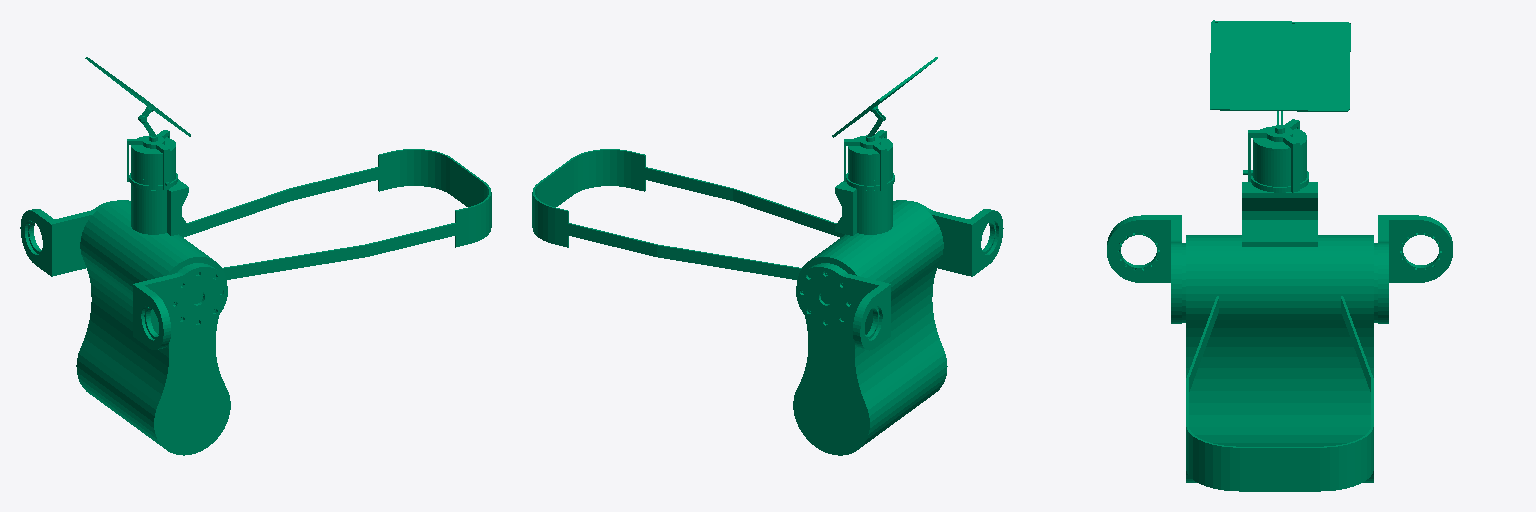
The robot description file, URDF, robot "ia_robot":
<?xml version="1.0"?>
<robot name="ia_robot">

  <!-- A “world” frame at the ground plane -->
  <link name="world"/>

  <!-- Fixed joint: place base_link on the ground -->
  <joint name="world_to_base" type="fixed">
    <origin xyz="0 0 0" rpy="0 0 0"/>
    <parent link="world"/>
    <child link="base_link"/>
  </joint>

  <!-- Base link -->
  <link name="base_link">
    <!-- Base mesh at its natural origin (sits on ground) -->
    <visual>
      <origin xyz="0 0 0" rpy="0 0 0"/>
      <geometry>
        <mesh filename="package://ia_robot/meshes/base.stl"/>
      </geometry>
      <material name="Gray"/>
    </visual>
    <collision>
      <origin xyz="0 0 0" rpy="0 0 0"/>
      <geometry>
        <mesh filename="package://ia_robot/meshes/base.stl"/>
      </geometry>
    </collision>
    <inertial>
      <mass value="1.0"/>
      <origin xyz="0 0 0" rpy="0 0 0"/>
      <inertia
        ixx="0.01" ixy="0.0" ixz="0.0"
        iyy="0.01" iyz="0.0"
        izz="0.01"/>
    </inertial>

    <!-- DEBUG: hinge marker at 0.8 m above ground -->
    <visual>
      <origin xyz="0 0 0.8" rpy="1.5708 0 0"/>
      <geometry>
        <cylinder length="0.1" radius="0.01"/>
      </geometry>
      <material name="JointMarker"/>
    </visual>
  </link>

  <!-- Chest link -->
  <link name="chest_link">
    <!-- 
      Offset the chest mesh down by 0.8 m so that,
      when the joint lifts the chest_link frame to z=0.8,
      the mesh appears in its original position.
    -->
    <visual>
      <origin xyz="0 0 -0.8" rpy="0 0 0"/>
      <geometry>
        <mesh filename="package://ia_robot/meshes/chest.stl"/>
      </geometry>
      <material name="Blue"/>
    </visual>
    <collision>
      <origin xyz="0 0 -0.8" rpy="0 0 0"/>
      <geometry>
        <mesh filename="package://ia_robot/meshes/chest.stl"/>
      </geometry>
    </collision>
    <inertial>
      <mass value="0.5"/>
      <origin xyz="0 0 -0.8" rpy="0 0 0"/>
      <inertia
        ixx="0.005" ixy="0.0" ixz="0.0"
        iyy="0.005" iyz="0.0"
        izz="0.005"/>
    </inertial>
  </link>

  <!-- Revolute joint at 0.8 m above ground -->
  <joint name="base_to_chest_joint" type="revolute">
    <origin xyz="0 0 0.8" rpy="0 0 0"/>
    <parent link="base_link"/>
    <child link="chest_link"/>
    <axis xyz="0 1 0"/>
    <limit effort="5.0" velocity="1.0" lower="-1.57" upper="1.57"/>
  </joint>

  <!-- Material for the debug cylinder -->
  <material name="JointMarker">
    <color rgba="1 0 0 1"/>
  </material>
</robot>

--- Render facts (derived) ---
3 views of the same robot in one strip: view 1: azimuth 30°, elevation 25°; view 2: azimuth 150°, elevation 25°; view 3: azimuth 270°, elevation 25° (orthographic).
Robot: ia_robot — 3 links, 2 joints (1 revolute, 1 fixed); root link world; default pose: all joints at 0.
Visible links, largest first — view 1: chest_link; view 2: chest_link; view 3: chest_link.
Boxes of the visible links, x1,y1,x2,y2 form: chest_link: (20,57,491,455); chest_link: (532,57,1003,455); chest_link: (1107,20,1452,491).
Size in the robot's own frame: 0.9817 by 0.646 by 0.8934 metres.
1 mesh visuals loaded from 2 distinct referenced files (1 binary STL); not drawn: 1 (reference not matched to a file when rendering).